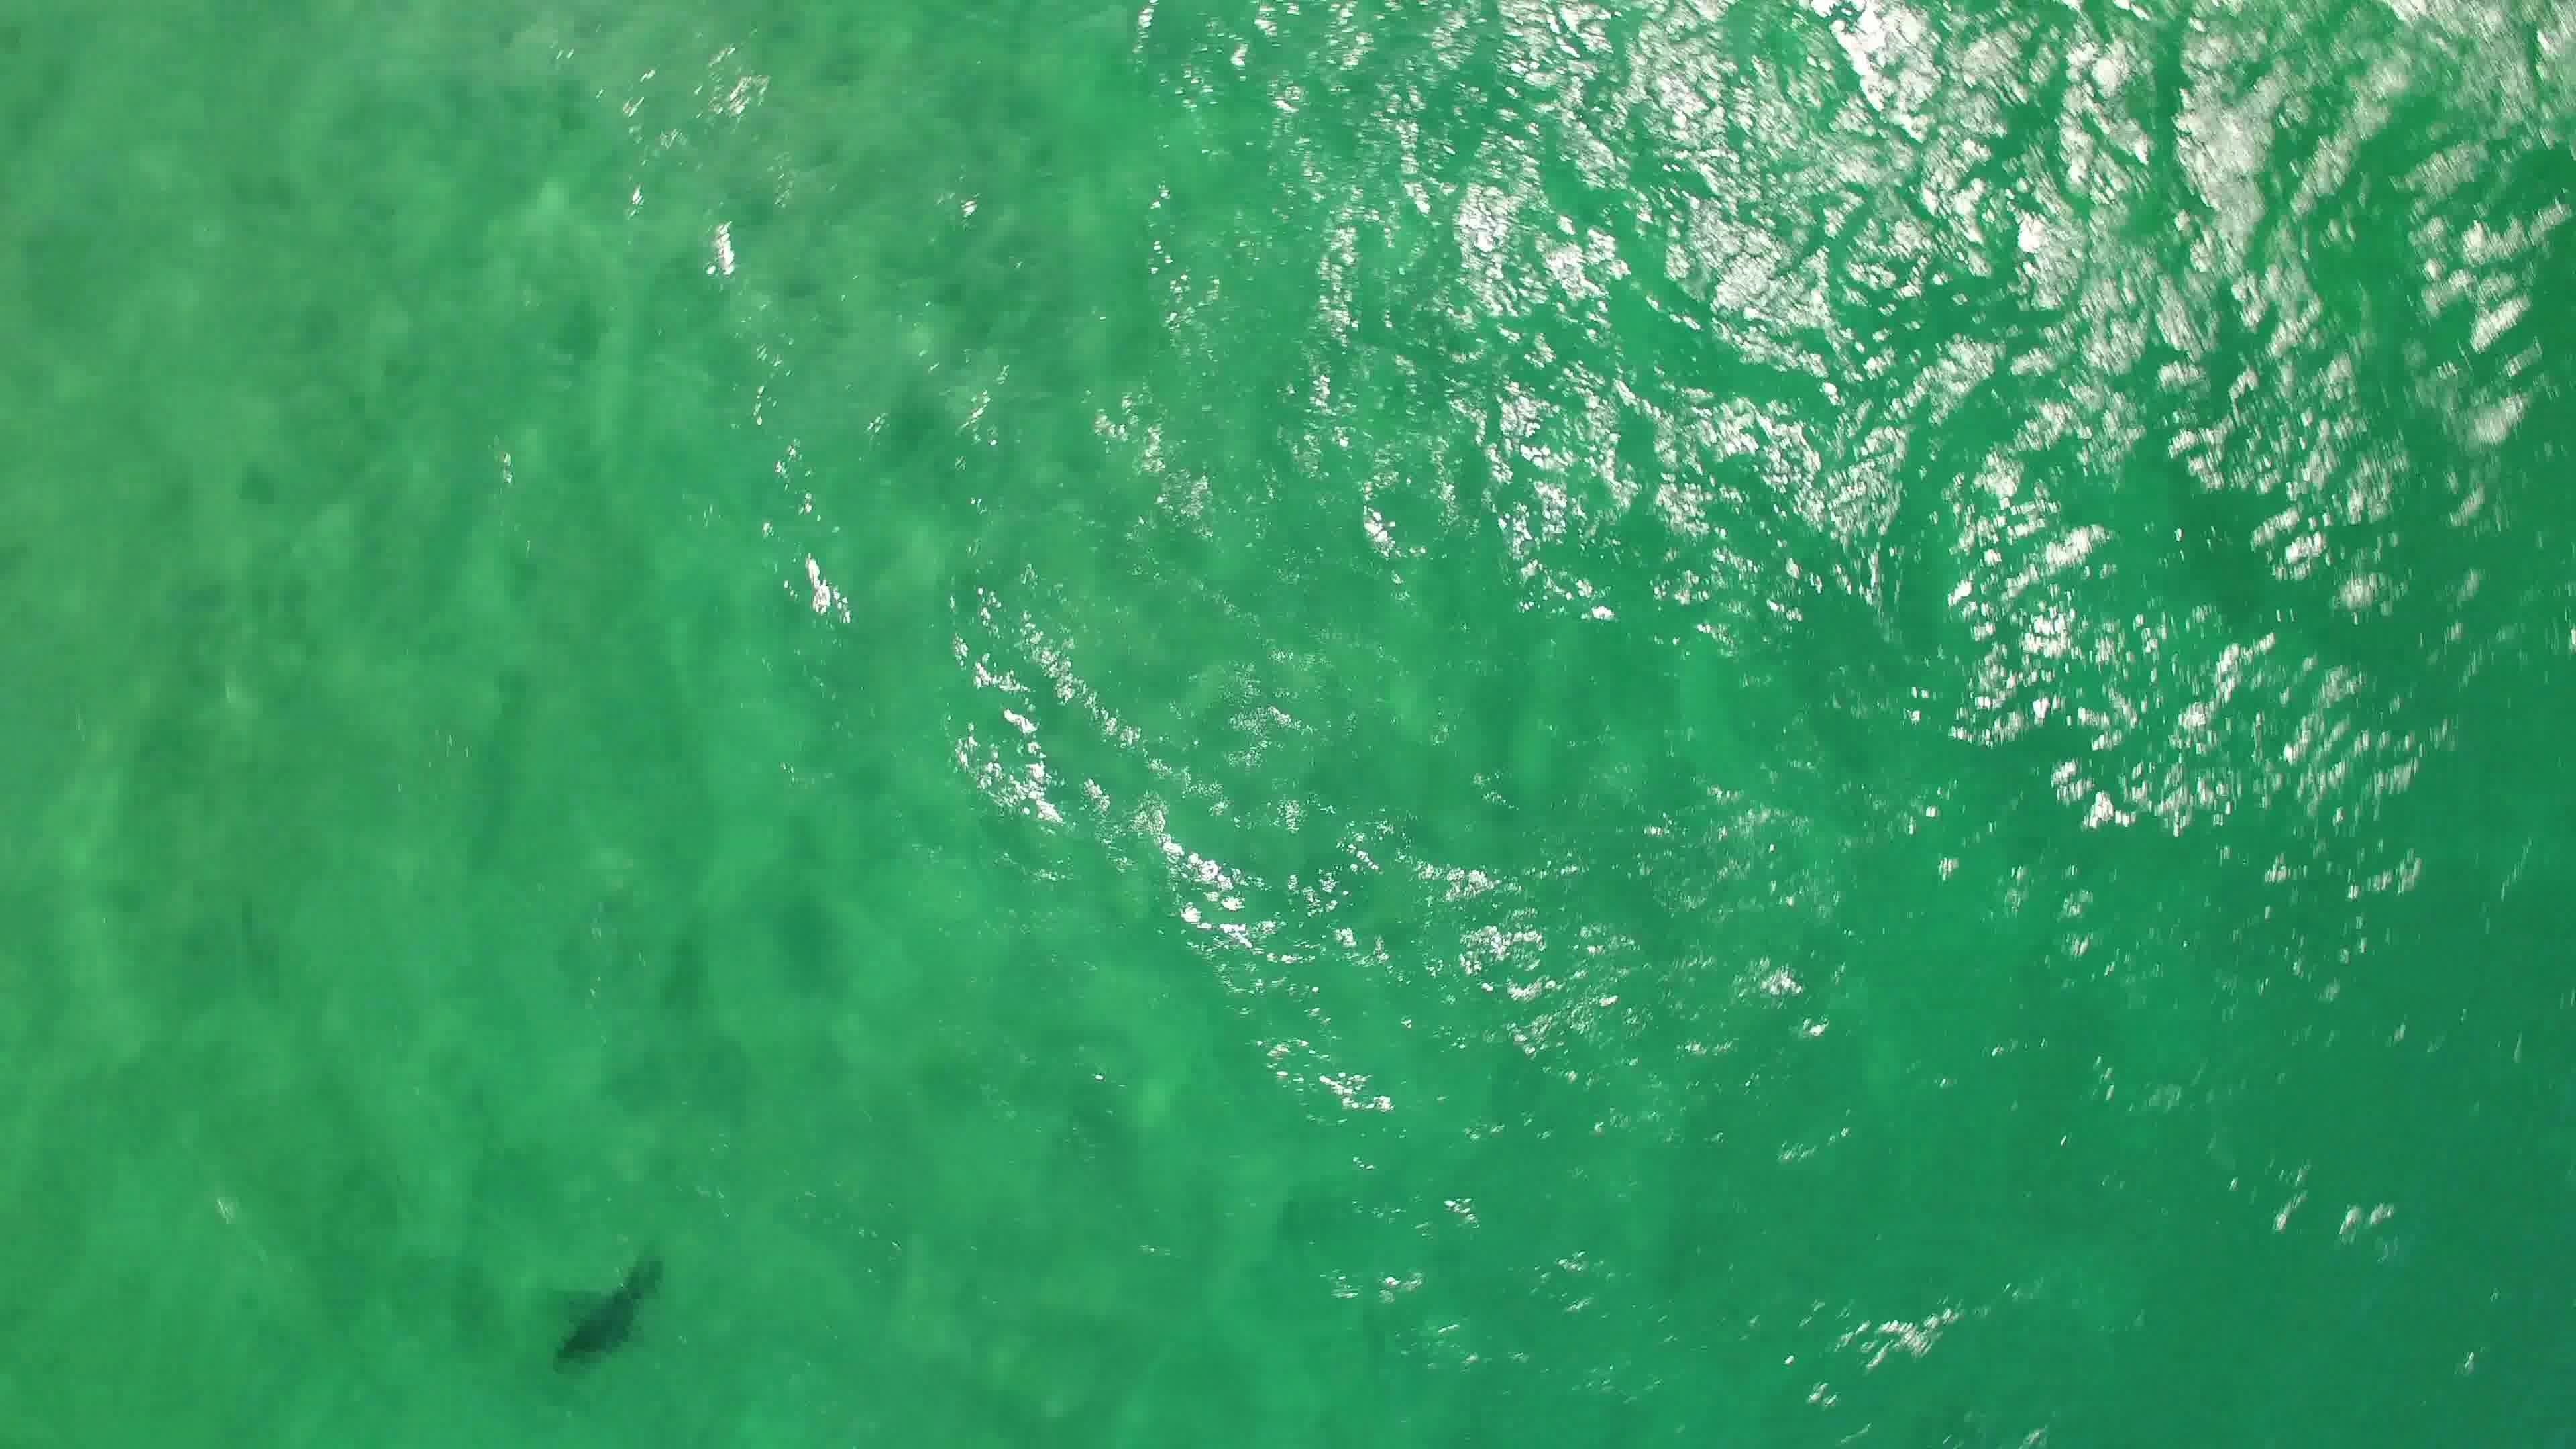shark: (554, 1253, 667, 1373)
